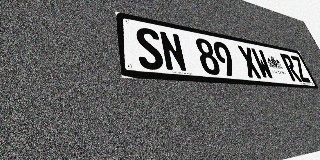8: (194, 37, 222, 75)
9: (211, 40, 238, 77)
N: (158, 30, 188, 73)
R: (279, 53, 302, 82)
S: (134, 26, 165, 71)
W: (250, 48, 275, 80)
X: (237, 45, 262, 79)
Z: (289, 55, 311, 83)
